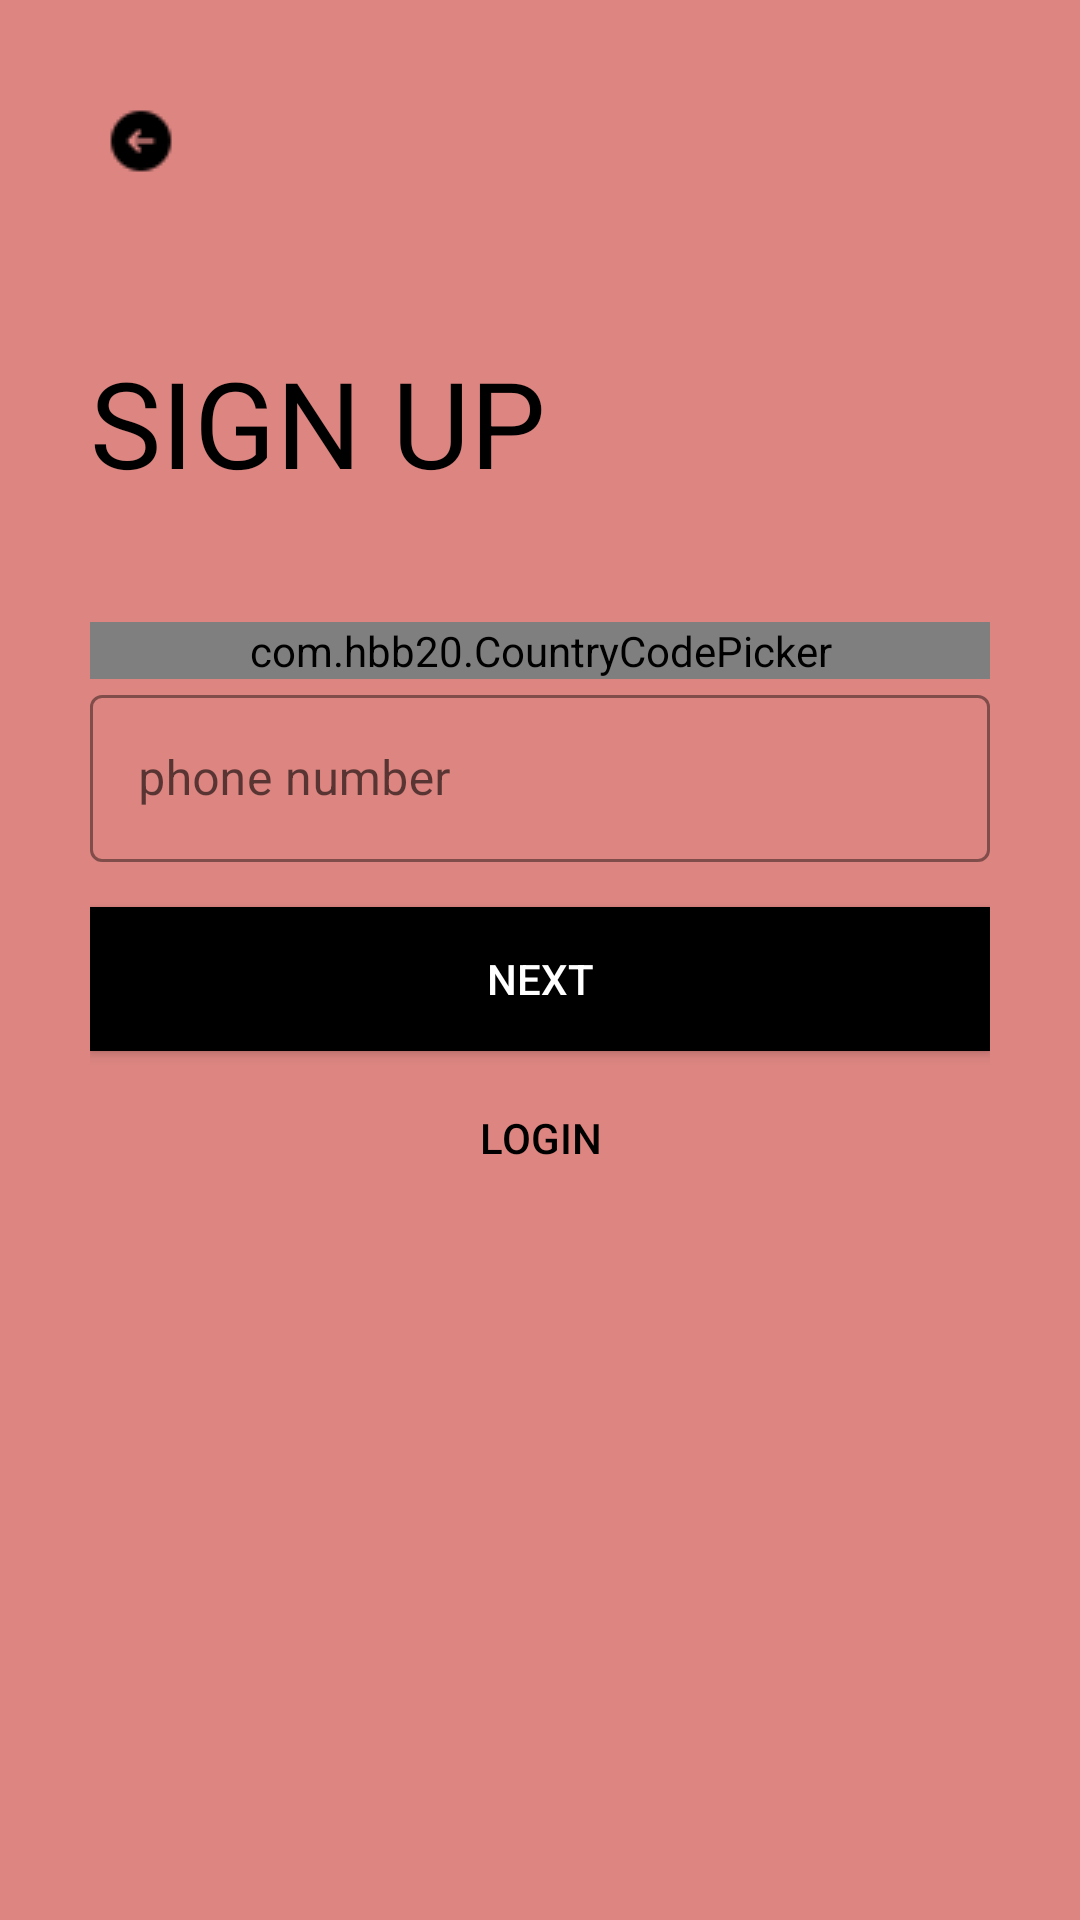

Where icons sit on this 1080×1920 app screen, as BBox(x1, y1, x2, y2):
back arraow: BBox(110, 110, 172, 172)
